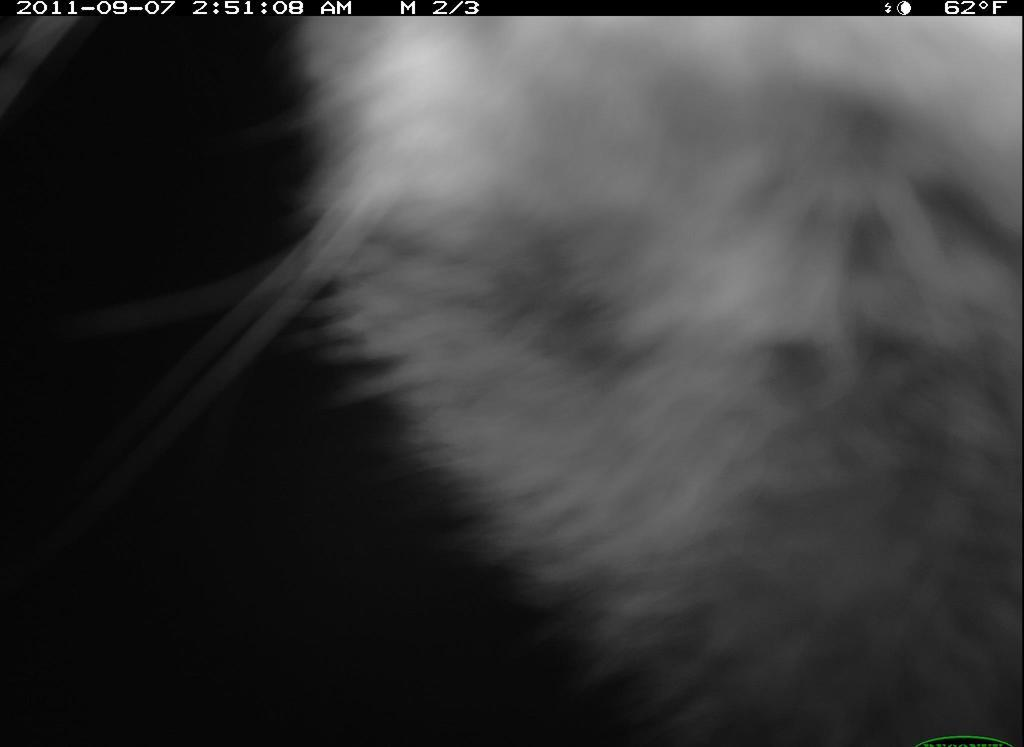raccoon: (258, 21, 1024, 747)
